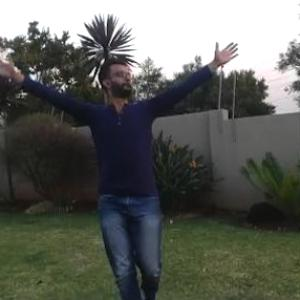takeoff: (1, 46, 235, 288)
